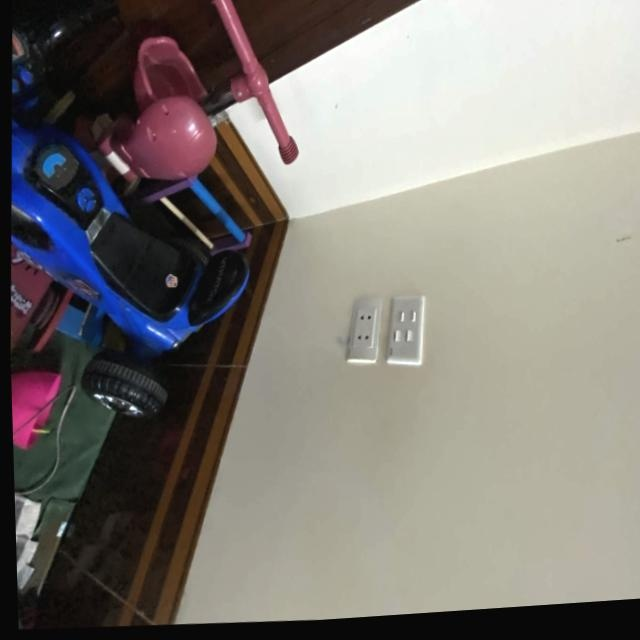outlet: (343, 295, 384, 364)
